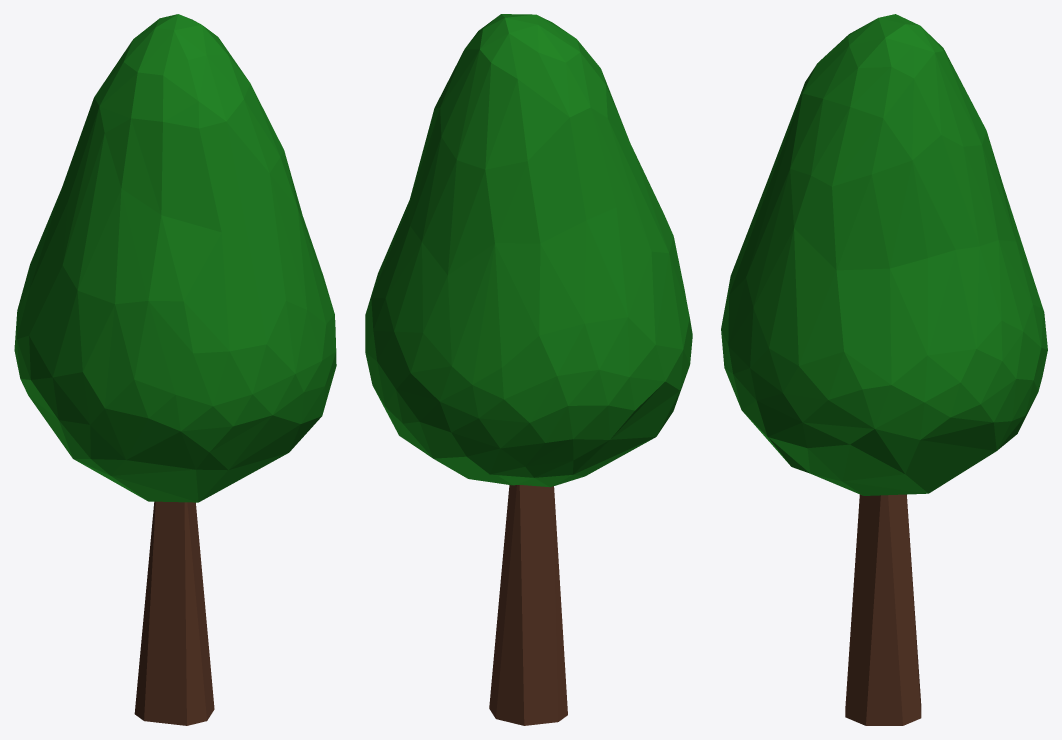
The model's file is Drzewo kula .fbx.
The picture shows the model from 3 angles, left to right: view 1: azimuth 30°, elevation 25°; view 2: azimuth 150°, elevation 25°; view 3: azimuth 270°, elevation 25°; orthographic projection.
Parts seen in each view (by area): view 1: Icosphere, Cube; view 2: Icosphere, Cube; view 3: Icosphere, Cube.
Boxes of the visible parts, x1=… form: Icosphere: x1=14, y1=14, x2=336, y2=502; Cube: x1=134, y1=501, x2=214, y2=725; Icosphere: x1=365, y1=14, x2=692, y2=487; Cube: x1=489, y1=485, x2=567, y2=725; Icosphere: x1=721, y1=14, x2=1047, y2=495; Cube: x1=845, y1=494, x2=921, y2=725.
Size of the model in its own units: 860 by 2018 by 862.
